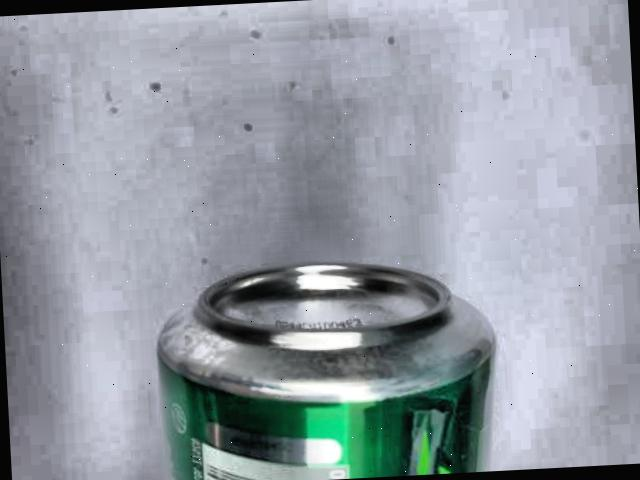Bottles: (136, 219, 539, 480)
